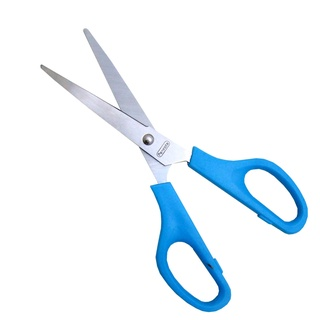scissors: (30, 25, 314, 314)
